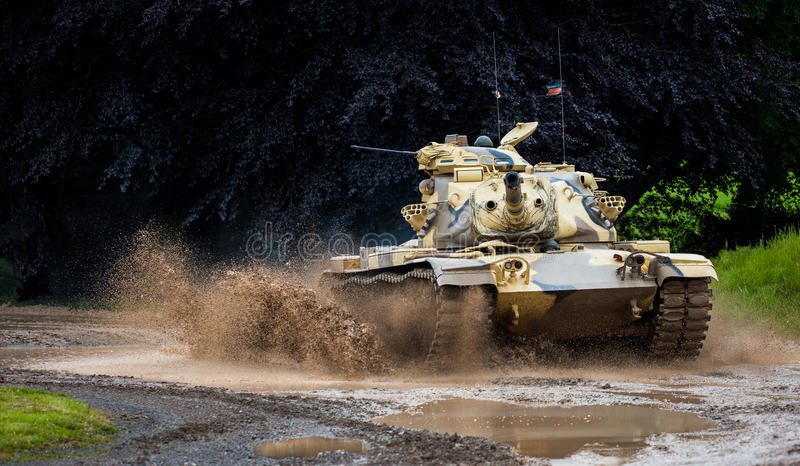m60: (341, 131, 714, 363)
